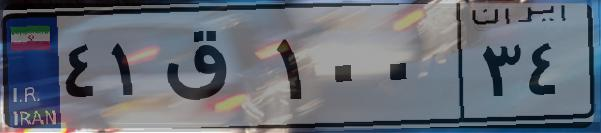0: (385, 28, 445, 110), (330, 28, 385, 110)
1: (270, 28, 330, 110), (110, 28, 158, 98)
3: (475, 38, 525, 113)
4: (57, 26, 110, 100), (525, 38, 570, 115)
ق: (158, 20, 270, 120)
